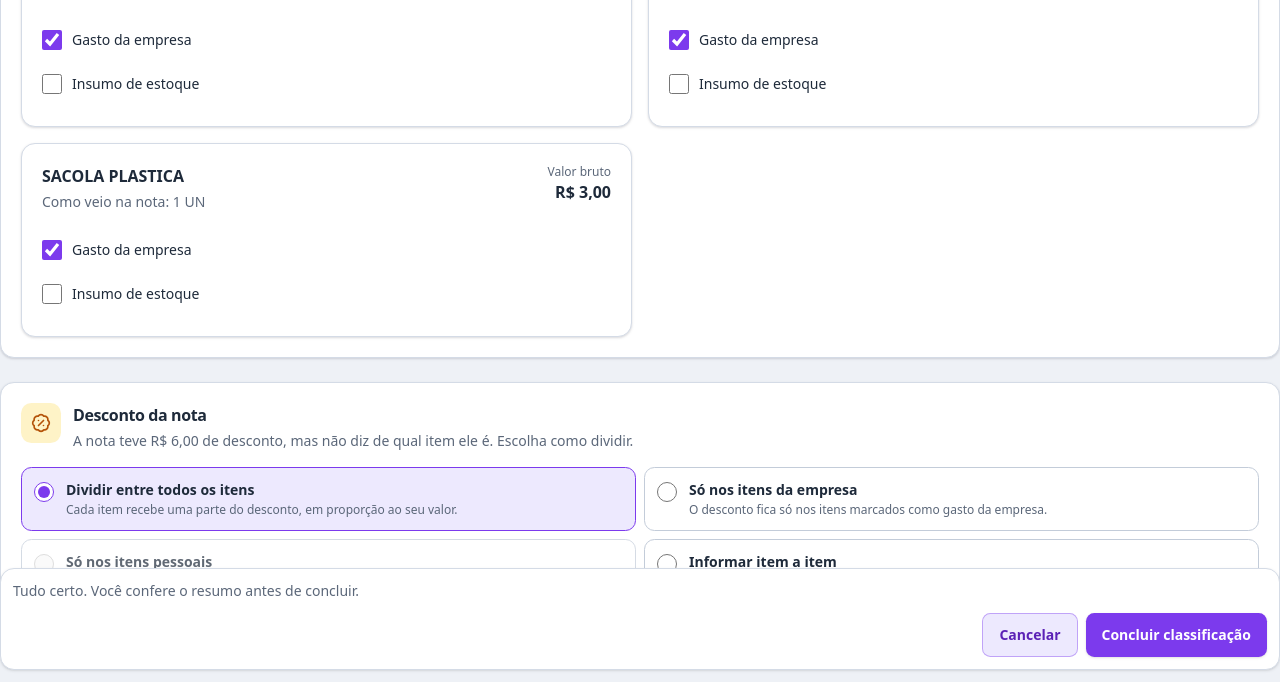
Test: the two answers of each line › marking a line as stock marks it as a company expense and fixes that mark
(page scrolled)
Click the checkbox labelled "Gasto da empresa" below "1 UN" at (52, 250), box [42,240,62,260]
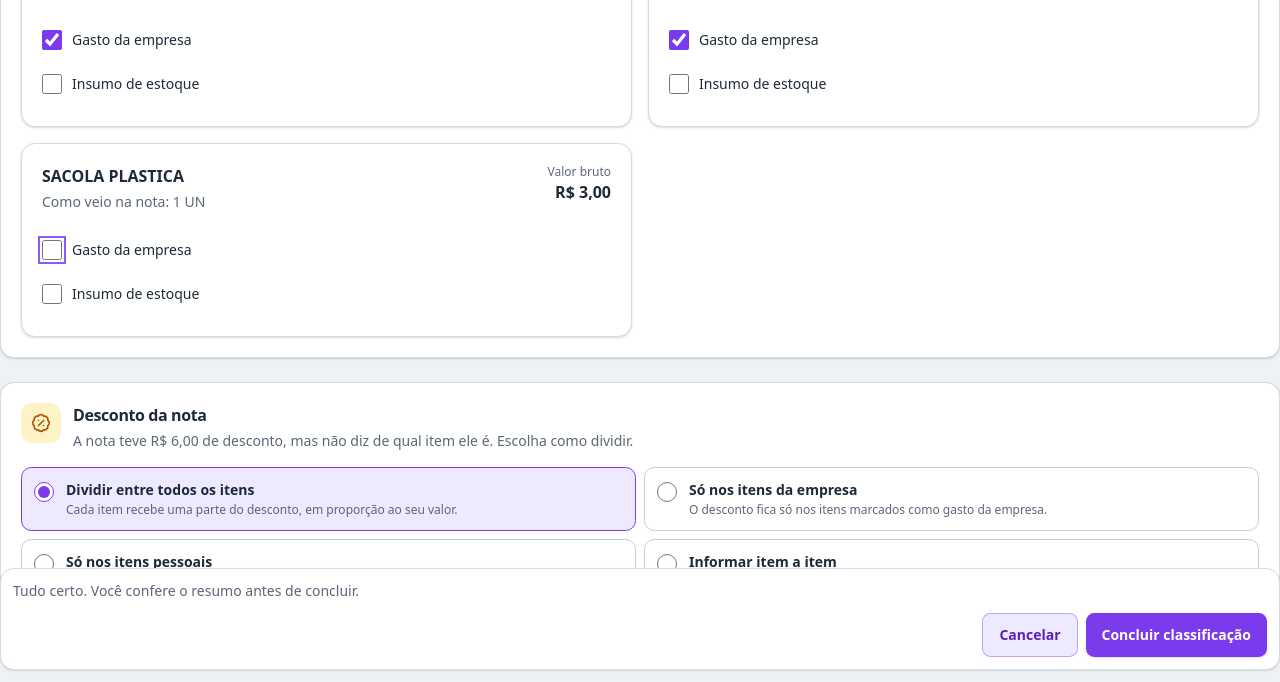
Now the checkbox labelled "Gasto da empresa" below "1 UN" is not checked, box [42,240,62,260]
Click the checkbox labelled "Insumo de estoque" below "1 UN" at (52, 294), box [42,284,62,304]
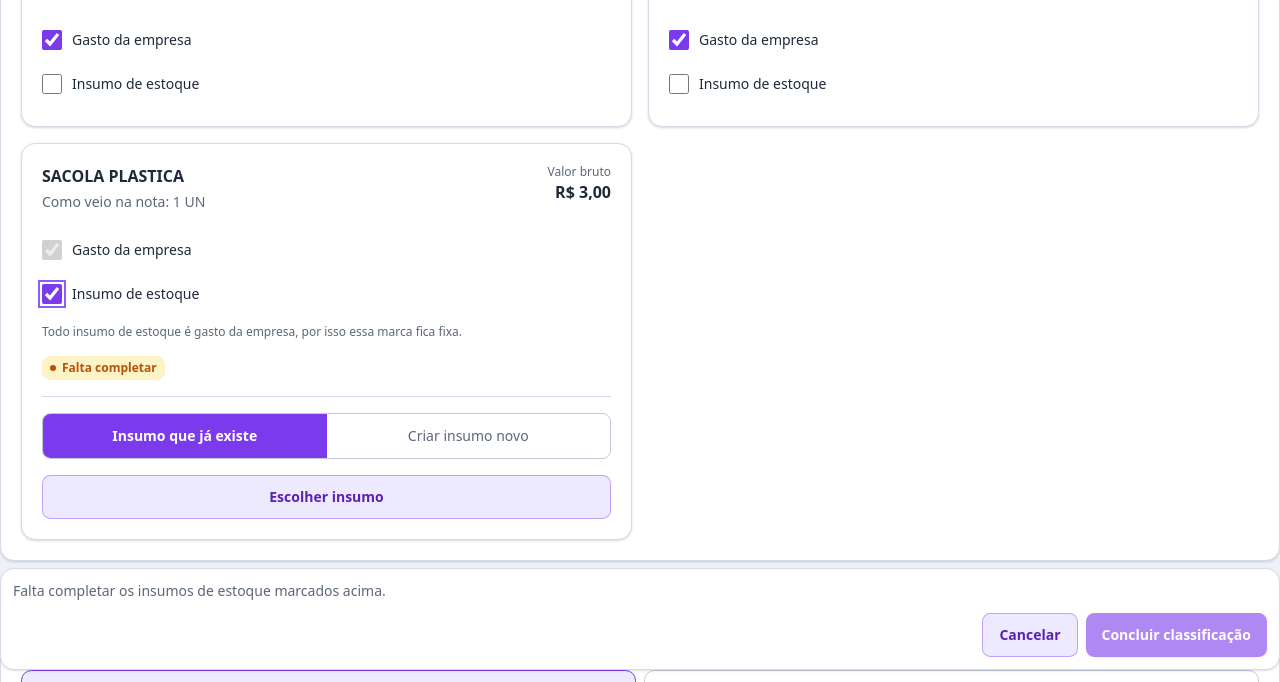
Now the checkbox labelled "Gasto da empresa" below "1 UN" is checked, box [42,240,62,260]
Now the checkbox labelled "Gasto da empresa" below "1 UN" is disabled, box [42,240,62,260]
